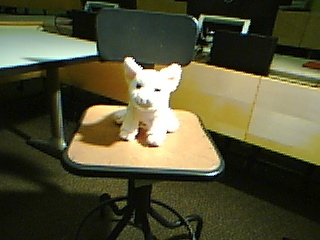piggy: (113, 55, 184, 149)
